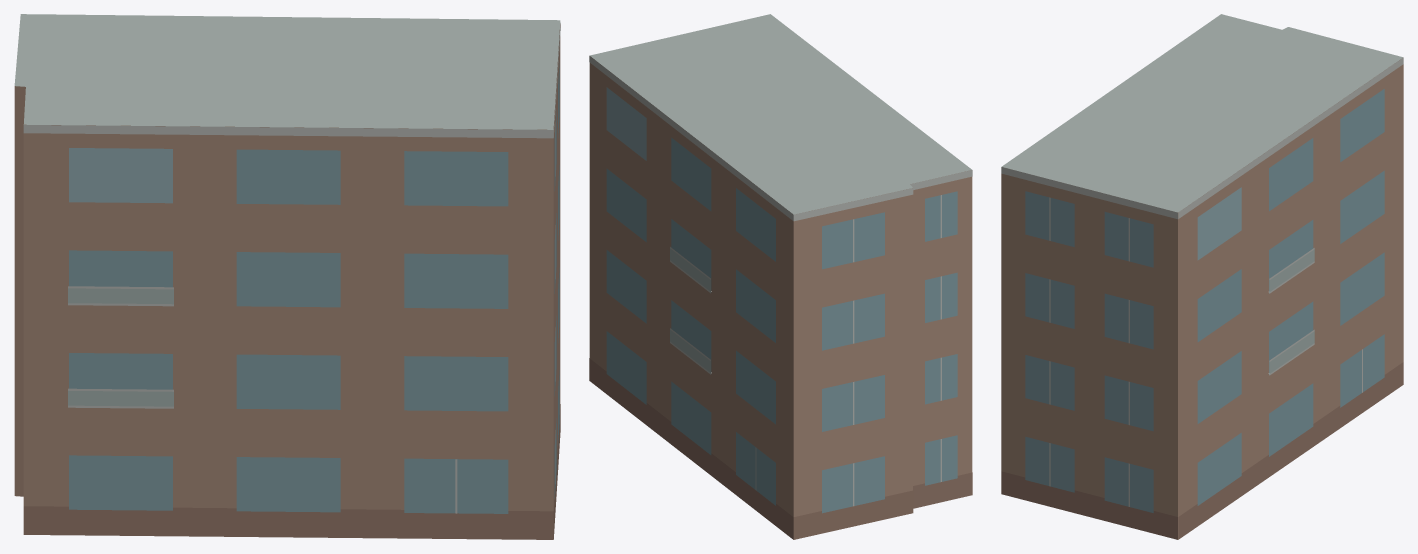
The model's file is survey-upis-32680200.glb.
3 renders of one model, left to right at view 1: azimuth 30°, elevation 25°; view 2: azimuth 150°, elevation 25°; view 3: azimuth 270°, elevation 25°, orthographic. The views are drawn at different scales.
Parts seen in each view (by area): view 1: survey-upis-32680200.tmp; view 2: survey-upis-32680200.tmp; view 3: survey-upis-32680200.tmp.
Boxes of the visible parts, x1,y1,x2,y2 form: survey-upis-32680200.tmp: (14, 14, 560, 539); survey-upis-32680200.tmp: (589, 14, 972, 539); survey-upis-32680200.tmp: (1001, 14, 1403, 539).
Size of the model in its own units: 15.36 by 11.8 by 13.15.
